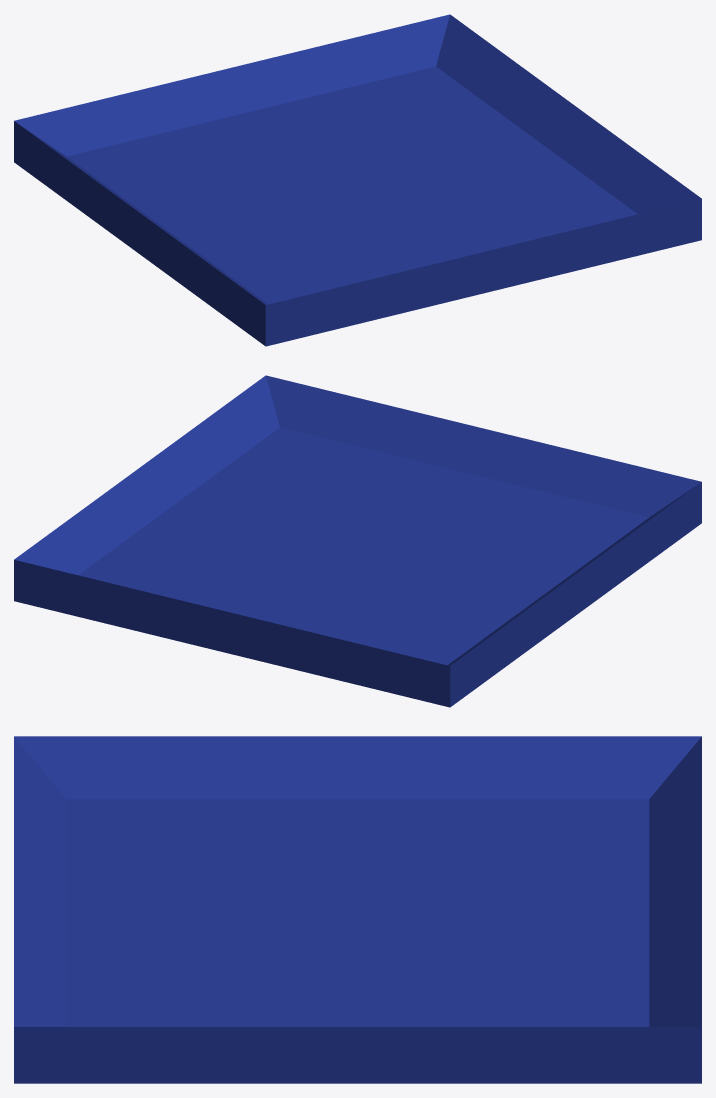
Rendered from roof7.fbx.
The picture shows the model from 3 angles, top to bottom: view 1: azimuth 30°, elevation 25°; view 2: azimuth 150°, elevation 25°; view 3: azimuth 270°, elevation 25°; orthographic projection. The views are drawn at different scales.
Visible parts, largest first — view 1: Cube.001; view 2: Cube.001; view 3: Cube.001.
Part boxes in pixels (box(x1,y1,x2,y2)): Cube.001: box(14, 14, 701, 346); Cube.001: box(14, 375, 701, 707); Cube.001: box(14, 736, 701, 1083).
Size of the model in its own units: 200 by 18.17 by 200.
